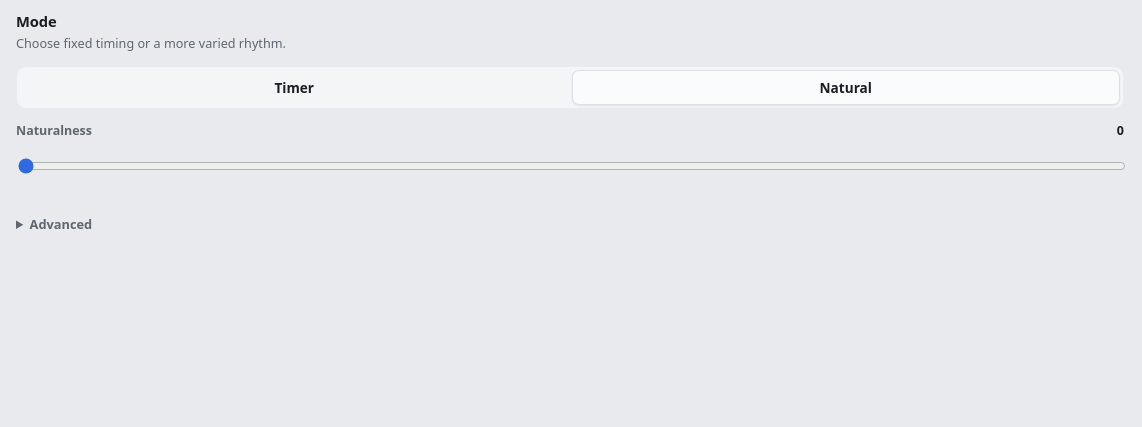
Test: ModeControls › derives Advanced defaults from Naturalness 0 using scheduler interpolation
This screenshot has width=1142, height=427.
Click the heading "Advanced" at point(61, 224), box [30,215,92,233]
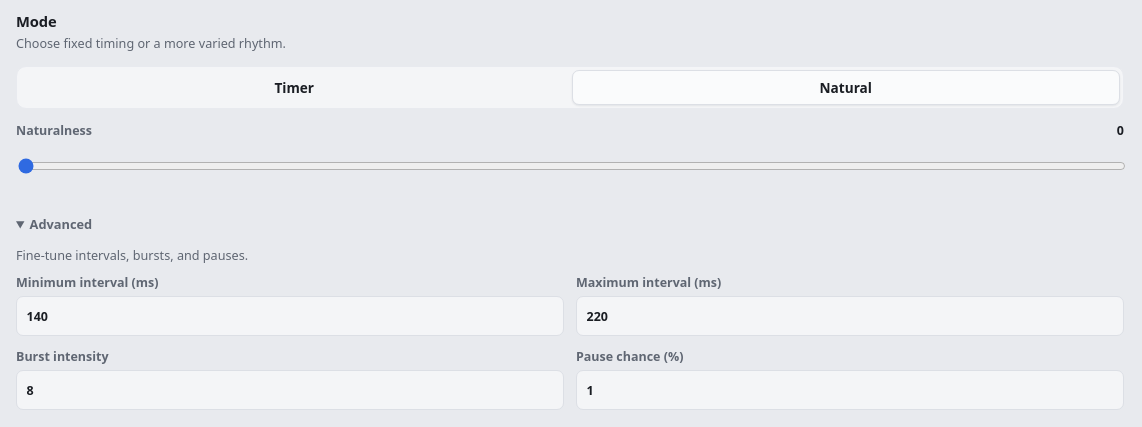
Expected: the number field labelled "Minimum interval (ms)" holds "140", [16,296,564,336]
Expected: the number field labelled "Maximum interval (ms)" holds "220", [576,296,1124,336]
Expected: the number field labelled "Burst intensity" holds "8", [16,370,564,410]
